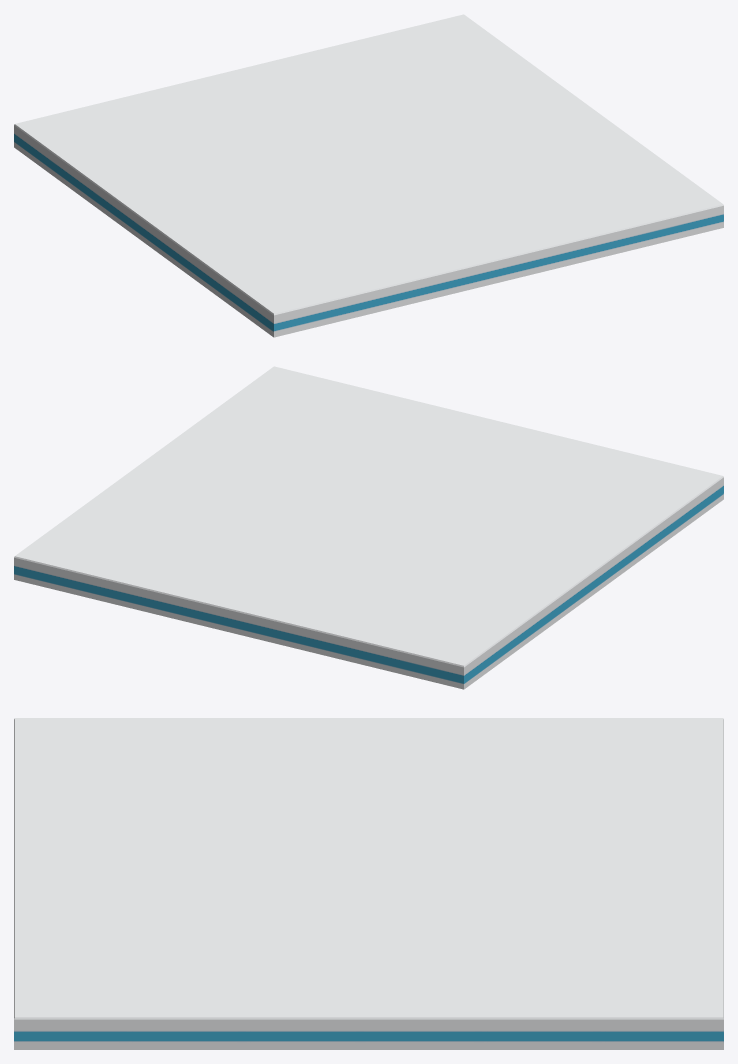
File: Floor_Tile.fbx
3 renders of one model, top to bottom at view 1: azimuth 30°, elevation 25°; view 2: azimuth 150°, elevation 25°; view 3: azimuth 270°, elevation 25°, orthographic. The views are drawn at different scales.
Visible parts, largest first — view 1: Floor_Tile; view 2: Floor_Tile; view 3: Floor_Tile.
Boxes of the visible parts, x1,y1,x2,y2 form: Floor_Tile: (14,14,723,337); Floor_Tile: (14,366,723,689); Floor_Tile: (14,718,723,1049).
Size of the model in its own units: 4 by 0.2 by 4.
